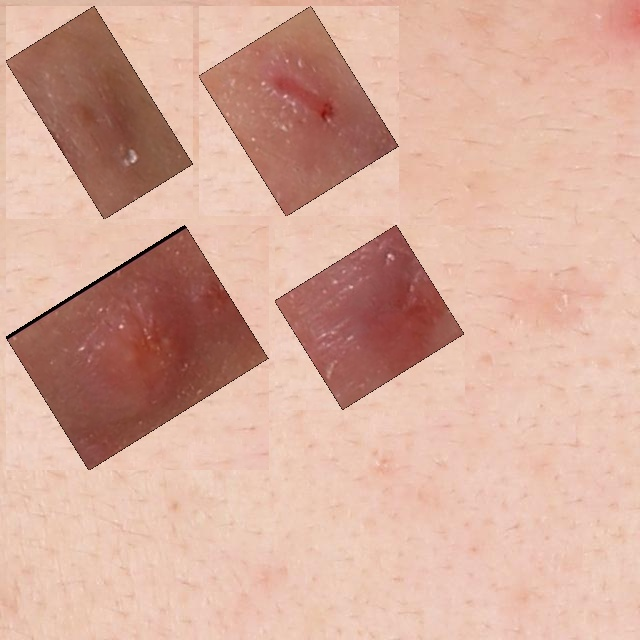nodule: (17, 236, 257, 459), (210, 17, 387, 205), (17, 17, 182, 208), (286, 236, 453, 398)
